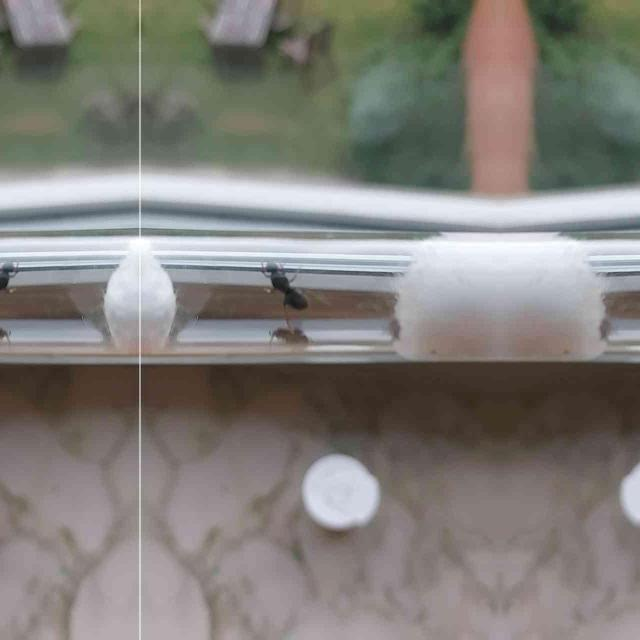Lasius: (253, 254, 310, 312), (0, 252, 26, 312)
